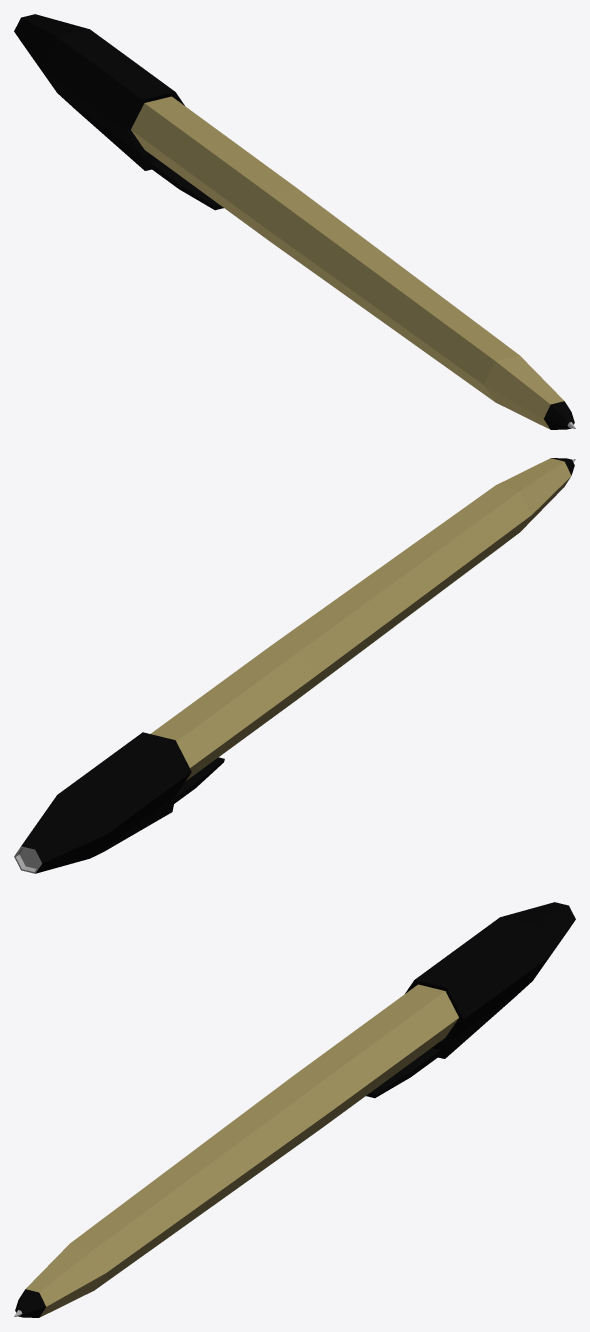
Rendered from BiCPen.fbx.
The picture shows the model from 3 angles, top to bottom: view 1: azimuth 30°, elevation 25°; view 2: azimuth 150°, elevation 25°; view 3: azimuth 330°, elevation 25°; orthographic projection.
Parts seen in each view (by area): view 1: pCylinder1; view 2: pCylinder1; view 3: pCylinder1.
Part boxes in pixels (x1,y1,x2,y2): pCylinder1: (14,14,575,429); pCylinder1: (14,458,575,873); pCylinder1: (14,902,575,1317).
Bounding box in the file's own units: 0.9214 × 0.9705 × 13.34.
